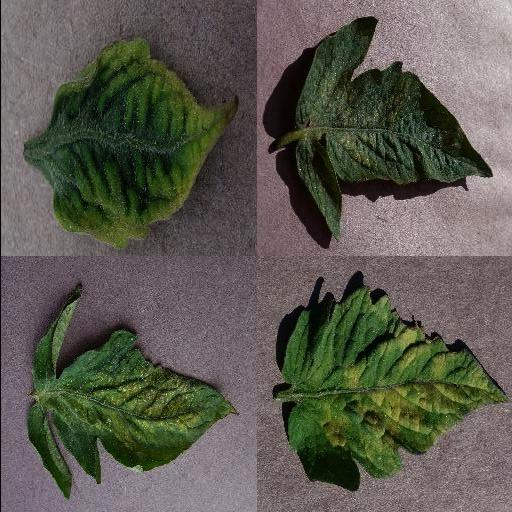Leaf Mold: (280, 287, 508, 493)
Spider Mites: (292, 15, 494, 243), (26, 287, 238, 499)
Yellow Leaf Curl Virus: (44, 39, 238, 251)
